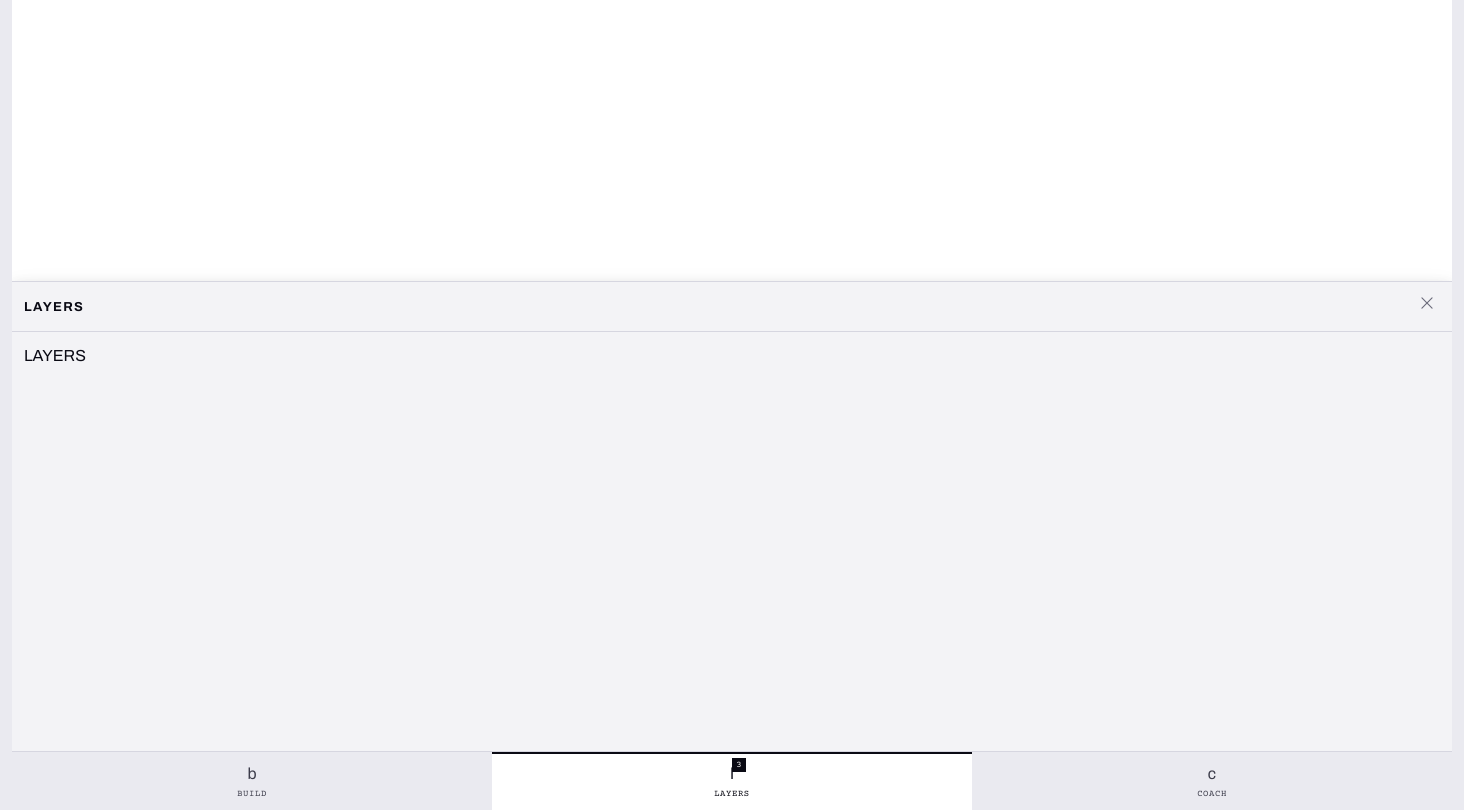
Test: MobileControlSheet › the close button collapses the sheet
The image size is (1464, 810).
What coordinates should you click on to do the following:
click the button with test id "rb2-mobile-sheet-close"
I would click on:
 (1427, 307)
Its box is x1=1414 y1=290 x2=1440 y2=323.
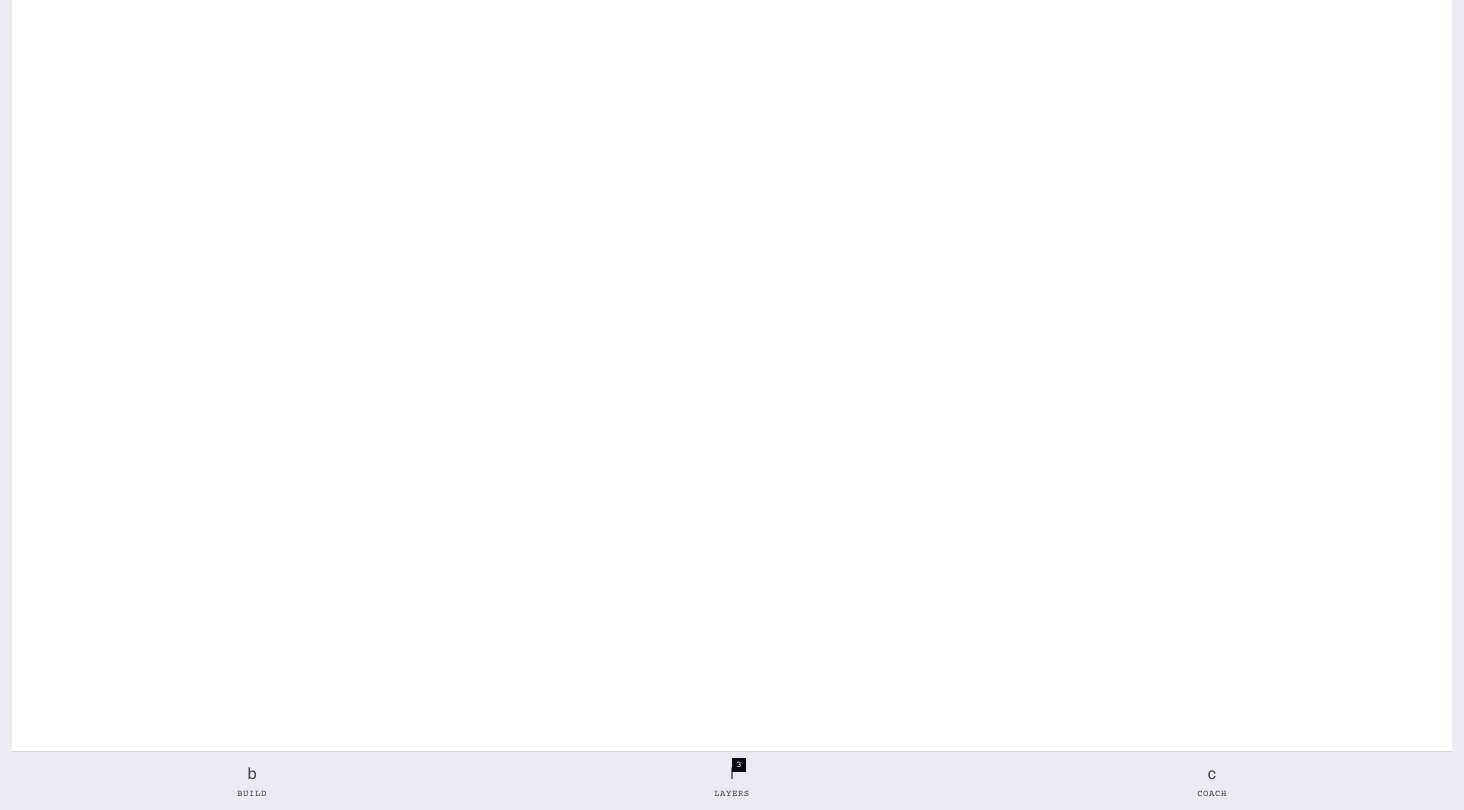
Result: the element with test id "rb2-mobile-sheet-panel" is gone
